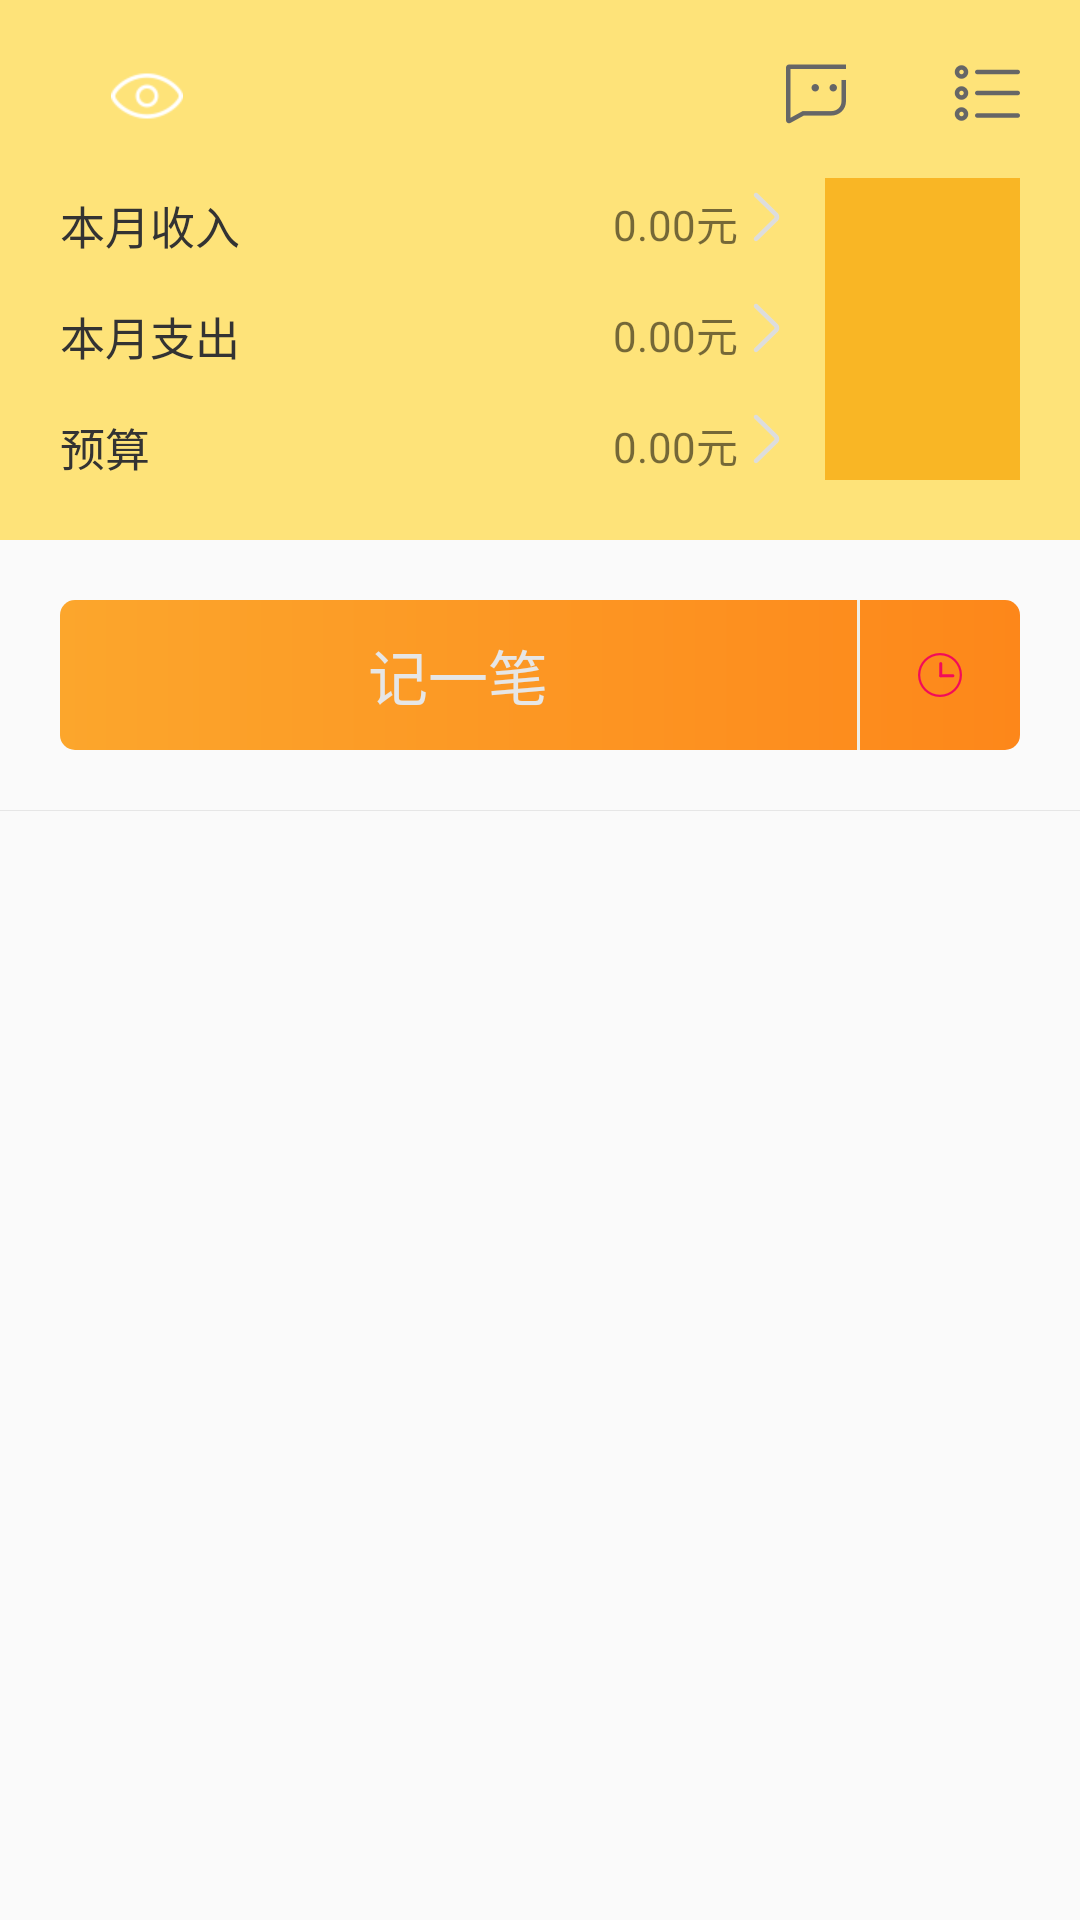

Screen size 1080*1920. Icon name, then its center in pixels as (x,y):
flow eye open: (147,96)
flow message: (816,94)
flow record: (940,675)
